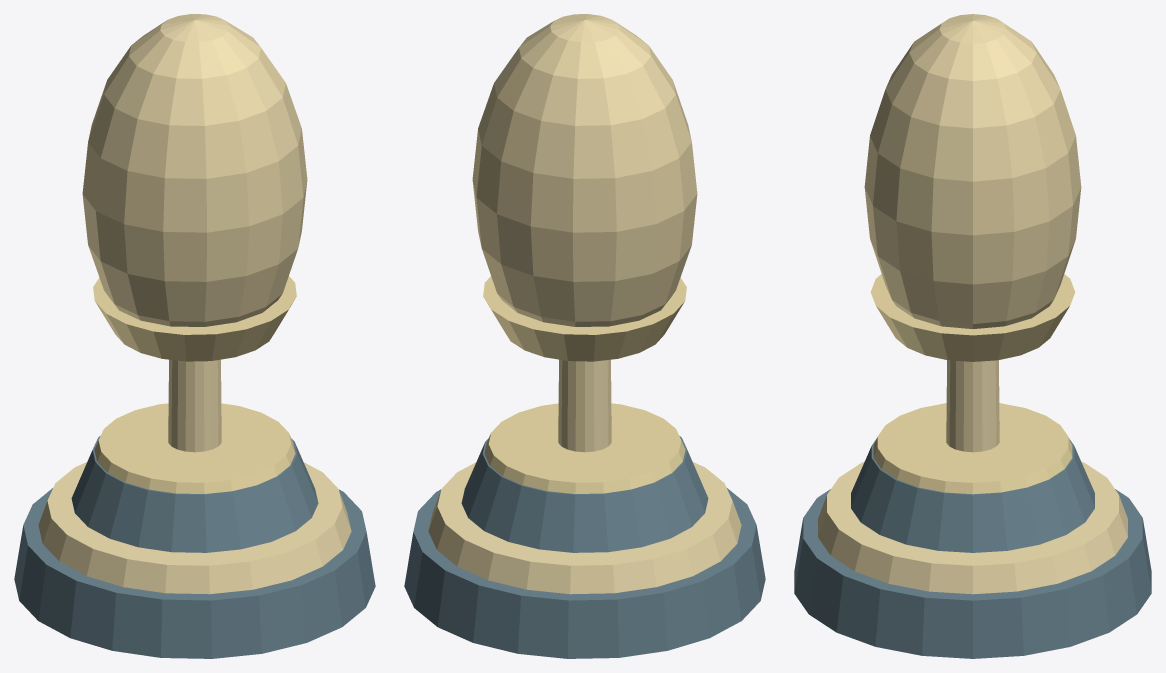
Rendered from golden-egg.glb.
The picture shows the model from 3 angles, left to right: view 1: azimuth 30°, elevation 25°; view 2: azimuth 150°, elevation 25°; view 3: azimuth 270°, elevation 25°; orthographic projection.
Bounding box in the file's own units: 1.2 × 2.06 × 1.19.
